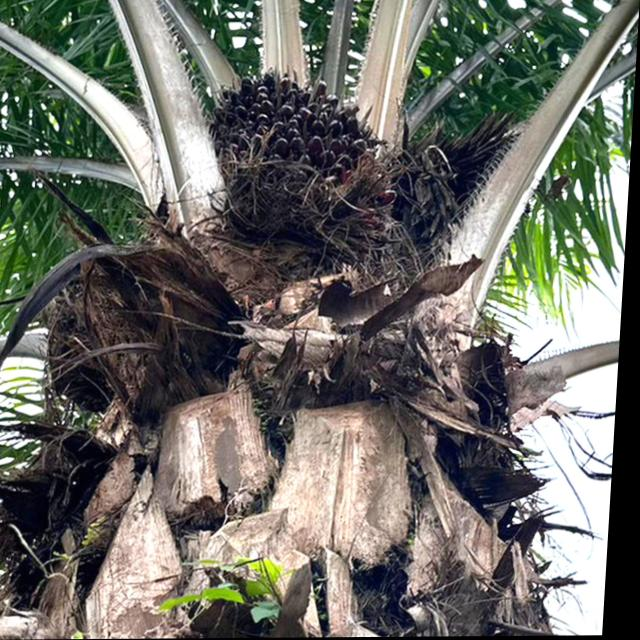almost: (199, 68, 410, 291)
